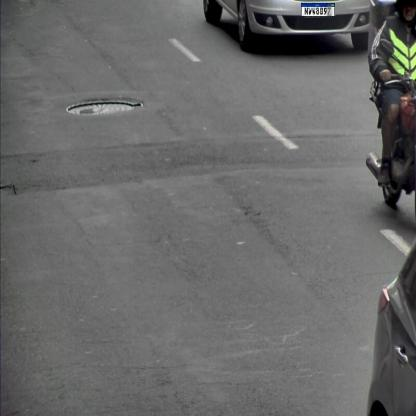PlacaM: (301, 2, 335, 16)
